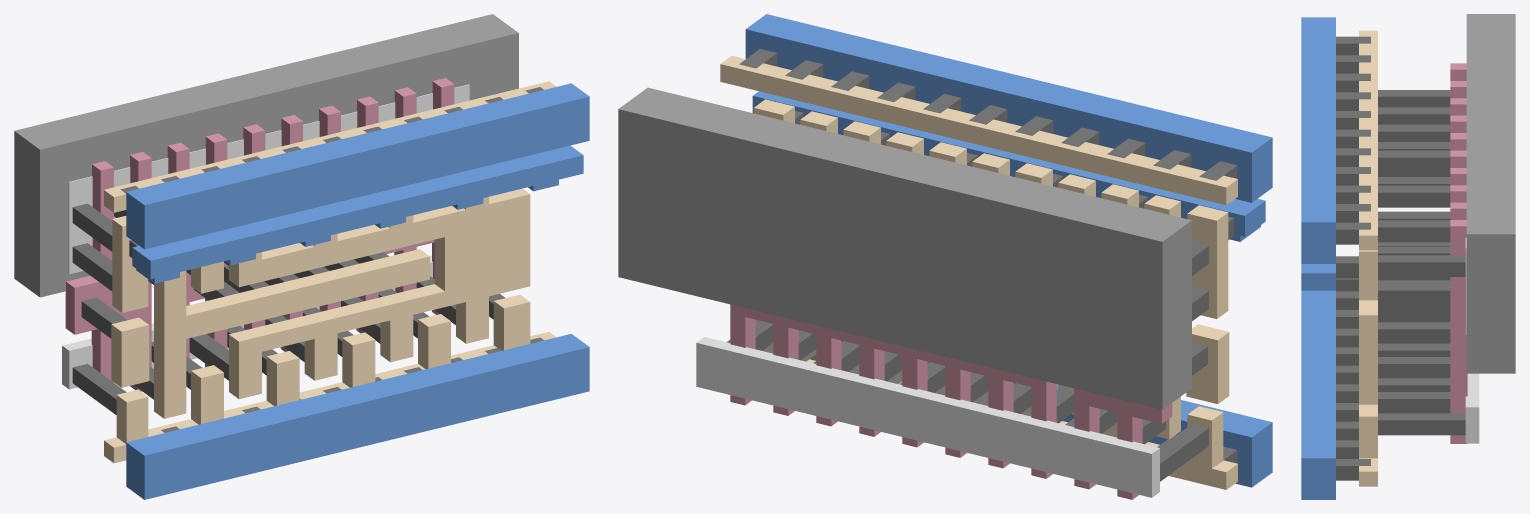
Rendered from sky130_fd_sc_hd__lpflow_clkbufkapwr_8.gds.gltf.
3 renders of one model, left to right at view 1: azimuth 30°, elevation 25°; view 2: azimuth 150°, elevation 25°; view 3: azimuth 270°, elevation 25°, orthographic. The views are drawn at different scales.
Visible parts, largest first — view 1: sky130_fd_sc_hd__lpflow_clkbufkapwr_8_met1, sky130_fd_sc_hd__lpflow_clkbufkapwr_8_li1, sky130_fd_sc_hd__lpflow_clkbufkapwr_8_nwell, sky130_fd_sc_hd__lpflow_clkbufkapwr_8_poly, sky130_fd_sc_hd__lpflow_clkbufkapwr_8_licon, sky130_fd_sc_hd__lpflow_clkbufkapwr_8_diff, sky130_fd_sc_hd__lpflow_clkbufkapwr_8_mcon; view 2: sky130_fd_sc_hd__lpflow_clkbufkapwr_8_nwell, sky130_fd_sc_hd__lpflow_clkbufkapwr_8_met1, sky130_fd_sc_hd__lpflow_clkbufkapwr_8_li1, sky130_fd_sc_hd__lpflow_clkbufkapwr_8_diff, sky130_fd_sc_hd__lpflow_clkbufkapwr_8_poly, sky130_fd_sc_hd__lpflow_clkbufkapwr_8_licon, sky130_fd_sc_hd__lpflow_clkbufkapwr_8_mcon; view 3: sky130_fd_sc_hd__lpflow_clkbufkapwr_8_licon, sky130_fd_sc_hd__lpflow_clkbufkapwr_8_nwell, sky130_fd_sc_hd__lpflow_clkbufkapwr_8_met1, sky130_fd_sc_hd__lpflow_clkbufkapwr_8_mcon, sky130_fd_sc_hd__lpflow_clkbufkapwr_8_li1, sky130_fd_sc_hd__lpflow_clkbufkapwr_8_poly, sky130_fd_sc_hd__lpflow_clkbufkapwr_8_diff.
Boxes of the visible parts, bbox=[...] form: sky130_fd_sc_hd__lpflow_clkbufkapwr_8_met1: bbox=[126, 83, 589, 499]; sky130_fd_sc_hd__lpflow_clkbufkapwr_8_li1: bbox=[104, 81, 556, 463]; sky130_fd_sc_hd__lpflow_clkbufkapwr_8_nwell: bbox=[14, 14, 518, 297]; sky130_fd_sc_hd__lpflow_clkbufkapwr_8_poly: bbox=[65, 78, 454, 391]; sky130_fd_sc_hd__lpflow_clkbufkapwr_8_licon: bbox=[72, 203, 504, 414]; sky130_fd_sc_hd__lpflow_clkbufkapwr_8_diff: bbox=[62, 84, 469, 389]; sky130_fd_sc_hd__lpflow_clkbufkapwr_8_mcon: bbox=[120, 87, 543, 442]; sky130_fd_sc_hd__lpflow_clkbufkapwr_8_nwell: bbox=[618, 87, 1191, 409]; sky130_fd_sc_hd__lpflow_clkbufkapwr_8_met1: bbox=[745, 14, 1272, 487]; sky130_fd_sc_hd__lpflow_clkbufkapwr_8_li1: bbox=[720, 55, 1237, 489]; sky130_fd_sc_hd__lpflow_clkbufkapwr_8_diff: bbox=[696, 337, 1159, 497]; sky130_fd_sc_hd__lpflow_clkbufkapwr_8_poly: bbox=[730, 304, 1172, 499]; sky130_fd_sc_hd__lpflow_clkbufkapwr_8_licon: bbox=[727, 242, 1208, 481]; sky130_fd_sc_hd__lpflow_clkbufkapwr_8_mcon: bbox=[739, 49, 1237, 465]; sky130_fd_sc_hd__lpflow_clkbufkapwr_8_licon: bbox=[1378, 90, 1465, 435]; sky130_fd_sc_hd__lpflow_clkbufkapwr_8_nwell: bbox=[1466, 14, 1515, 373]; sky130_fd_sc_hd__lpflow_clkbufkapwr_8_met1: bbox=[1301, 17, 1335, 499]; sky130_fd_sc_hd__lpflow_clkbufkapwr_8_mcon: bbox=[1336, 36, 1370, 480]; sky130_fd_sc_hd__lpflow_clkbufkapwr_8_li1: bbox=[1359, 30, 1377, 486]; sky130_fd_sc_hd__lpflow_clkbufkapwr_8_poly: bbox=[1450, 63, 1467, 443]; sky130_fd_sc_hd__lpflow_clkbufkapwr_8_diff: bbox=[1465, 150, 1479, 443].
Bounding box in the file's own units: 5.44 × 3.2 × 2.24.
